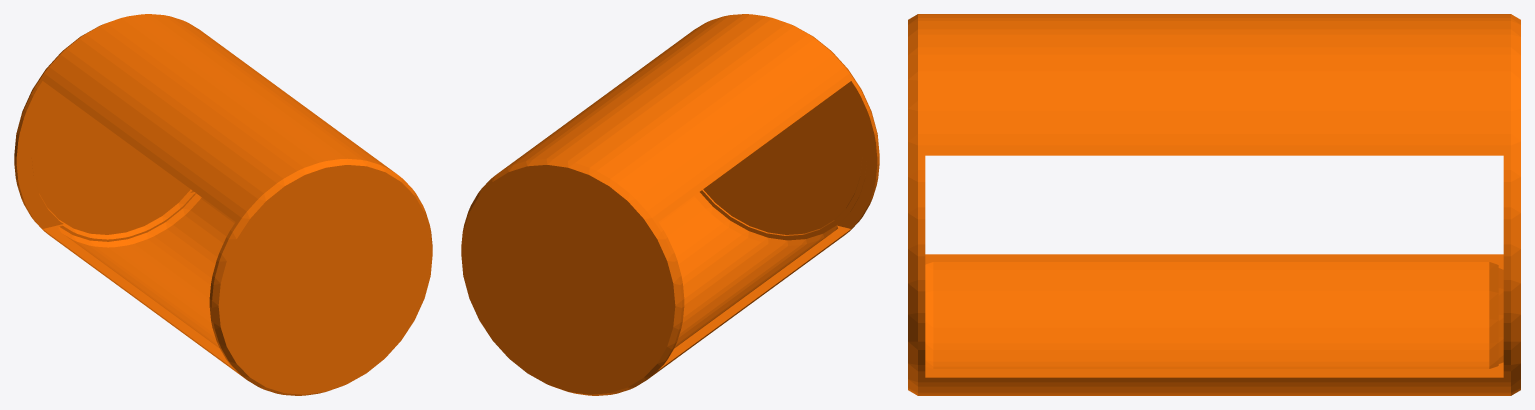
The model's file is door_frame.glb.
3 renders of one model, left to right at view 1: azimuth 30°, elevation 25°; view 2: azimuth 150°, elevation 25°; view 3: azimuth 270°, elevation 25°, orthographic. The views are drawn at different scales.
Visible parts, largest first — view 1: DoorFrame; view 2: DoorFrame; view 3: DoorFrame.
Boxes of the visible parts, box(x1,y1,x2,y2) form: DoorFrame: box(14, 14, 432, 395); DoorFrame: box(461, 14, 879, 395); DoorFrame: box(908, 14, 1520, 395).
Size of the model in its own units: 0.7975 by 0.7975 by 1.28.
